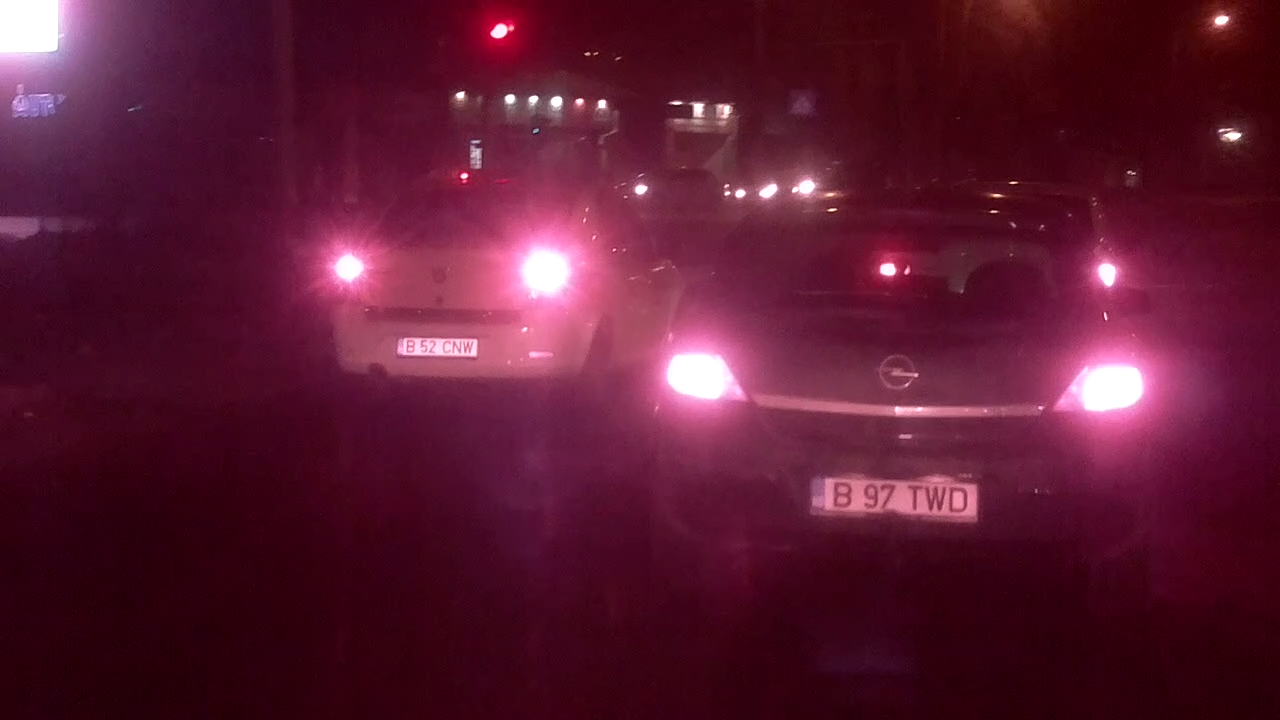license-plate: (805, 472, 986, 527), (392, 333, 483, 362)
